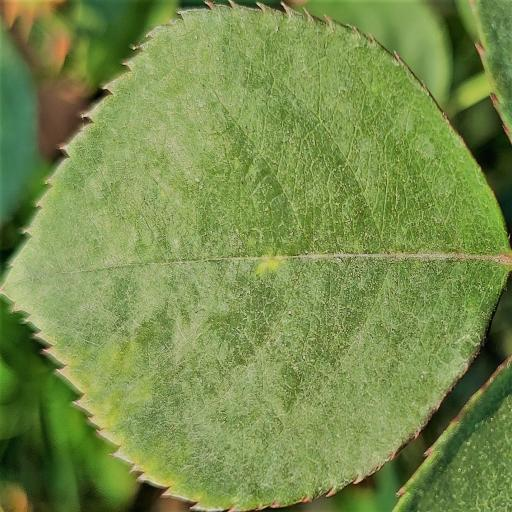healthy_leaf: (4, 6, 512, 512)
